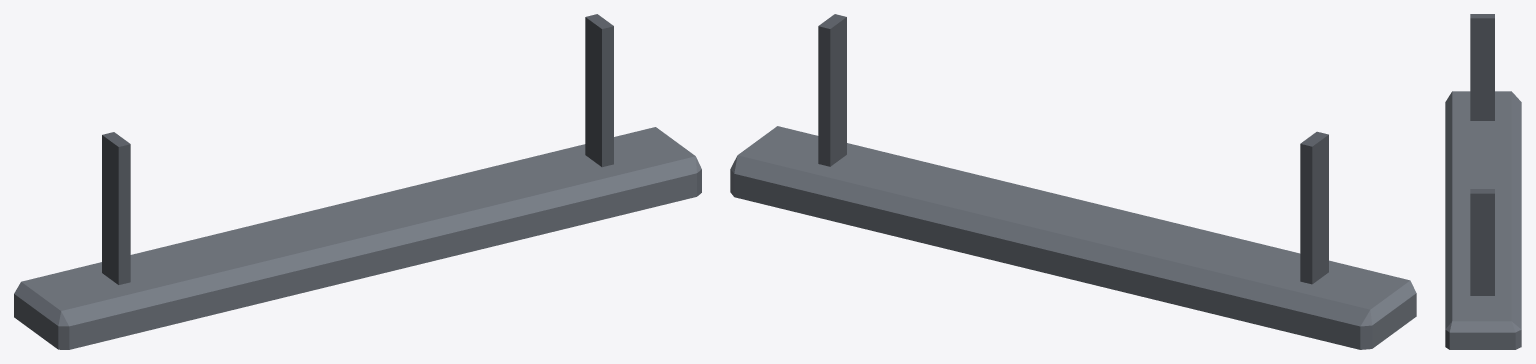
File: SM_Prop_Light_Fluorescent_01.glb
3 views of the same model, side by side, from view 1: azimuth 30°, elevation 25°; view 2: azimuth 150°, elevation 25°; view 3: azimuth 270°, elevation 25° (orthographic). The views are drawn at different scales.
Parts seen in each view (by area): view 1: SM_Prop_Light_Fluorescent_01; view 2: SM_Prop_Light_Fluorescent_01; view 3: SM_Prop_Light_Fluorescent_01.
Boxes of the visible parts, x1,y1,x2,y2 form: SM_Prop_Light_Fluorescent_01: [14, 14, 701, 349]; SM_Prop_Light_Fluorescent_01: [730, 14, 1416, 349]; SM_Prop_Light_Fluorescent_01: [1445, 14, 1521, 349].
Bounding box in the file's own units: 1.93 × 0.5092 × 0.2659.
1 material, 1 textured.
